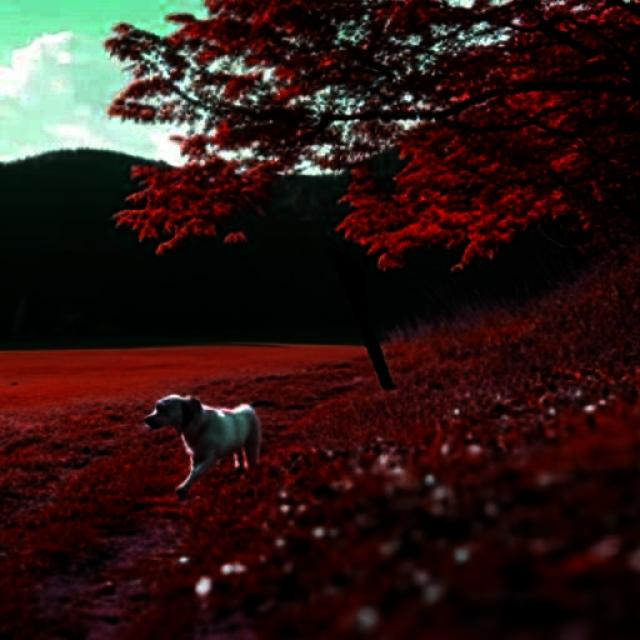Dog: (143, 393, 263, 500)
